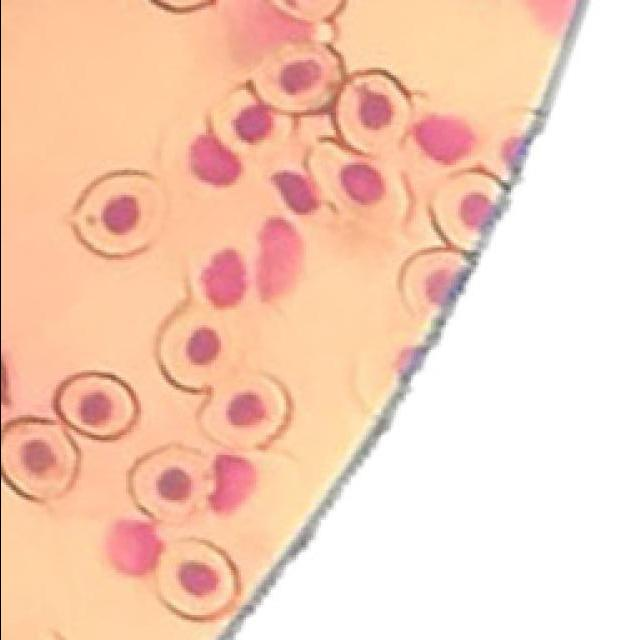RBC: (306, 140, 414, 234), (156, 300, 249, 392), (69, 170, 162, 258), (155, 539, 240, 621), (199, 375, 291, 449), (0, 418, 79, 501), (251, 42, 341, 114), (332, 71, 410, 154), (129, 445, 212, 521), (55, 372, 139, 440), (430, 171, 502, 250), (209, 89, 291, 156), (399, 249, 468, 315)
WBC: (257, 218, 301, 300), (414, 115, 474, 165), (108, 520, 162, 575), (209, 455, 256, 512), (200, 250, 246, 308), (190, 134, 240, 186), (272, 171, 318, 214)
